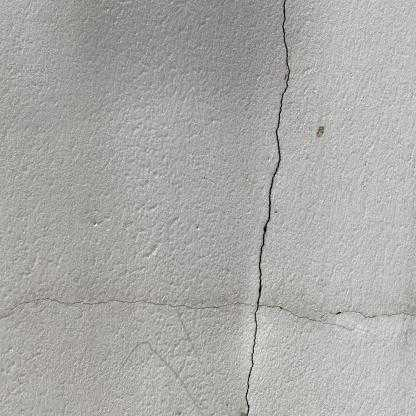crack: (245, 0, 290, 416)
